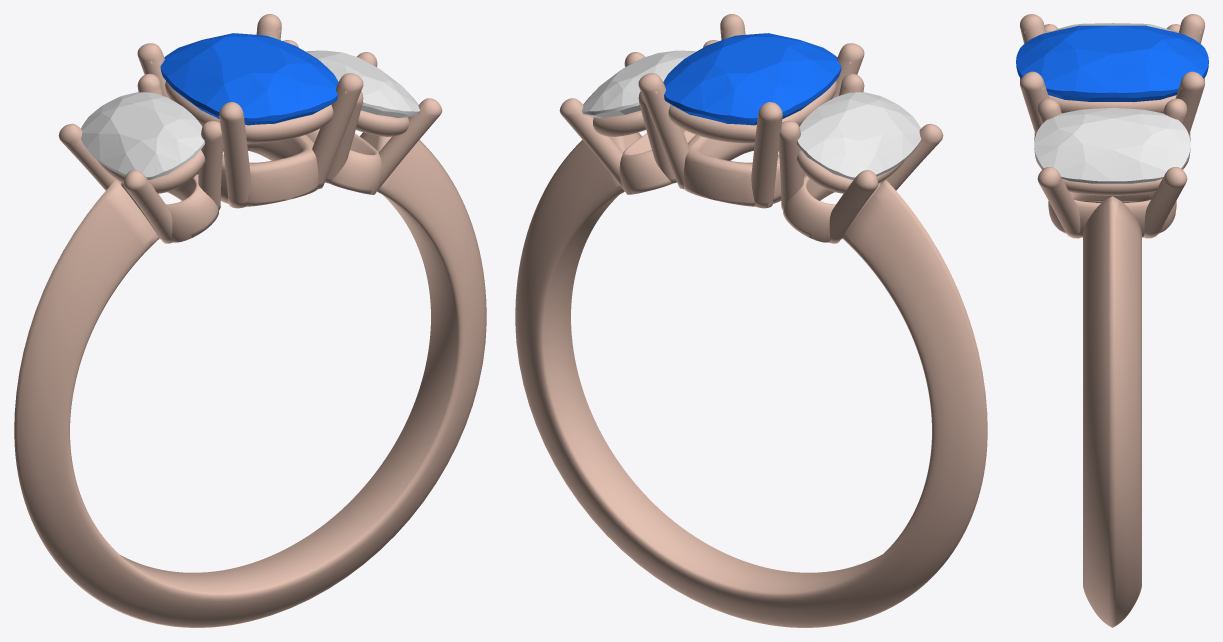
File: bluesapphire-cushion-rosegold-4prong-knifeedge-3stone.glb
The picture shows the model from 3 angles, left to right: view 1: azimuth 30°, elevation 25°; view 2: azimuth 150°, elevation 25°; view 3: azimuth 270°, elevation 25°; orthographic projection.
Parts seen in each view (by area): view 1: metal, stone.003, side.006, side.007; view 2: metal, stone.003, side.006, side.007; view 3: metal, stone.003, side.007, side.006.
Boxes of the visible parts, box(x1,y1,x2,y2) form: metal: box(14, 14, 486, 627); stone.003: box(160, 33, 338, 125); side.006: box(80, 92, 204, 179); side.007: box(305, 50, 420, 118); metal: box(515, 14, 987, 627); stone.003: box(663, 33, 841, 125); side.006: box(797, 92, 921, 179); side.007: box(581, 50, 696, 118); metal: box(1020, 14, 1205, 627); stone.003: box(1016, 25, 1208, 102); side.007: box(1034, 108, 1190, 184); side.006: box(1053, 23, 1171, 31).
Bounding box in the file's own units: 20.1 × 23.03 × 7.15.
